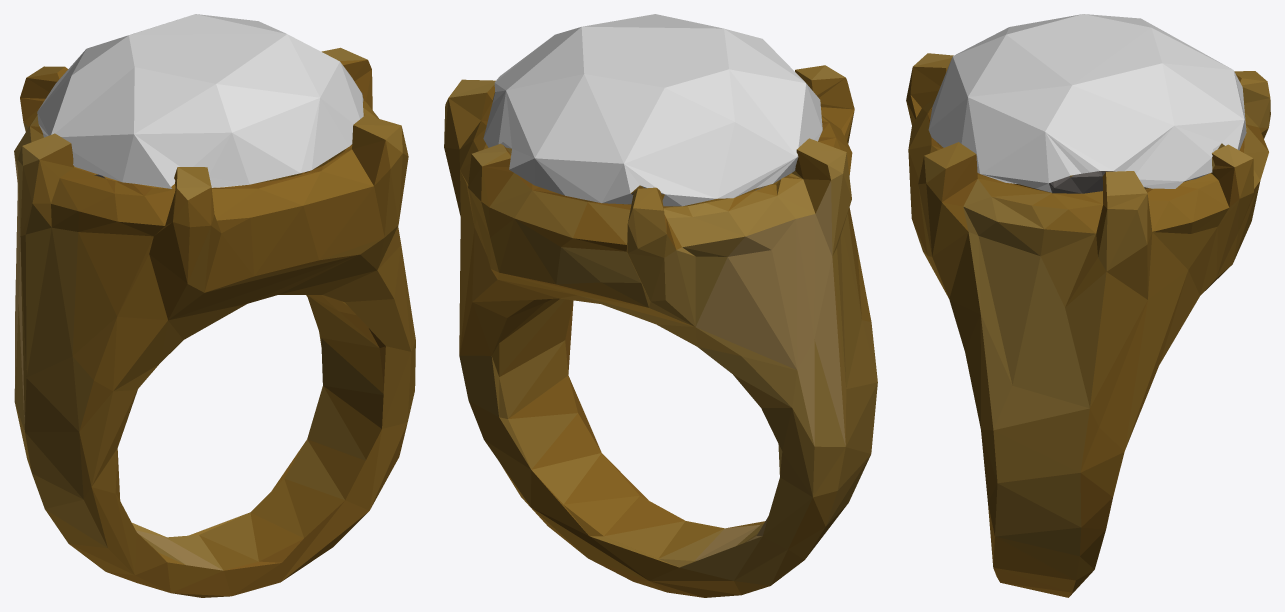
The model's file is aiwpn_ring.glb.
The picture shows the model from 3 angles, left to right: view 1: azimuth 30°, elevation 25°; view 2: azimuth 150°, elevation 25°; view 3: azimuth 270°, elevation 25°; orthographic projection. The views are drawn at different scales.
Parts seen in each view (by area): view 1: ca_aiwpn_ring; view 2: ca_aiwpn_ring; view 3: ca_aiwpn_ring.
Part boxes in pixels (x1,y1,x2,y2): ca_aiwpn_ring: [14, 14, 415, 597]; ca_aiwpn_ring: [444, 14, 877, 597]; ca_aiwpn_ring: [906, 14, 1270, 597].
Size of the model in its own units: 0.2607 by 0.3633 by 0.2265.
